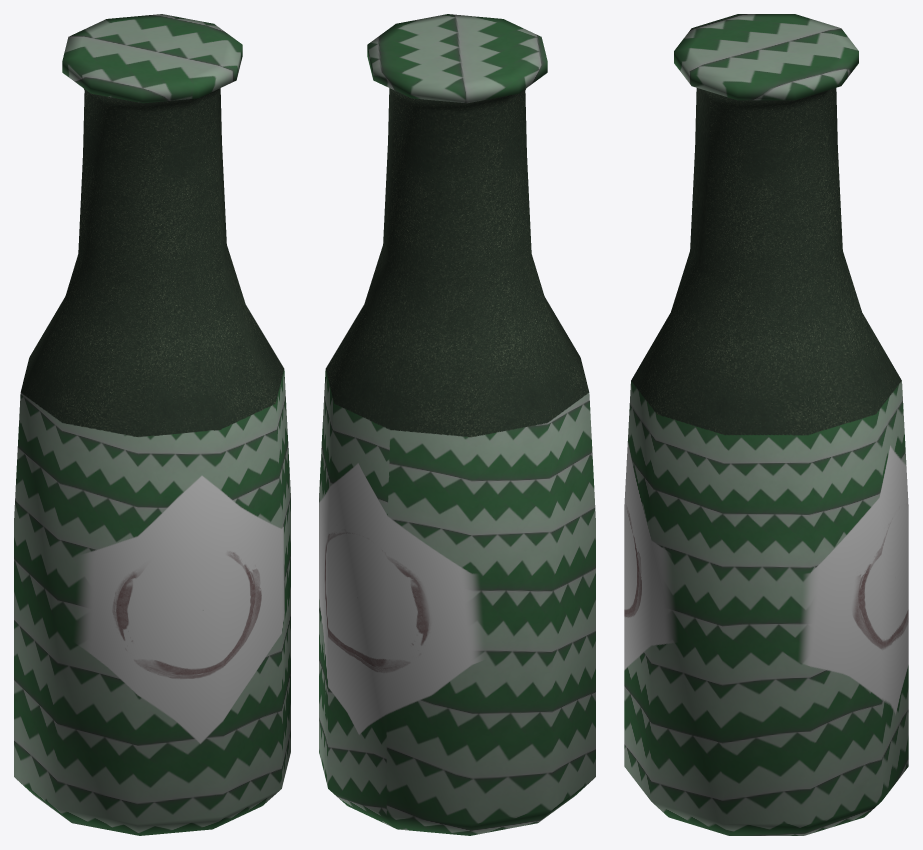
The model's file is beerBottle.fbx.
3 views of the same model, side by side, from view 1: azimuth 30°, elevation 25°; view 2: azimuth 150°, elevation 25°; view 3: azimuth 270°, elevation 25° (orthographic).
Visible parts, largest first — view 1: beerBottle; view 2: beerBottle; view 3: beerBottle.
Boxes of the visible parts, x1,y1,x2,y2 form: beerBottle: (14, 14, 290, 835); beerBottle: (319, 14, 595, 835); beerBottle: (624, 14, 908, 835).
Size of the model in its own units: 190 by 573 by 200.
1 material, 1 textured.
